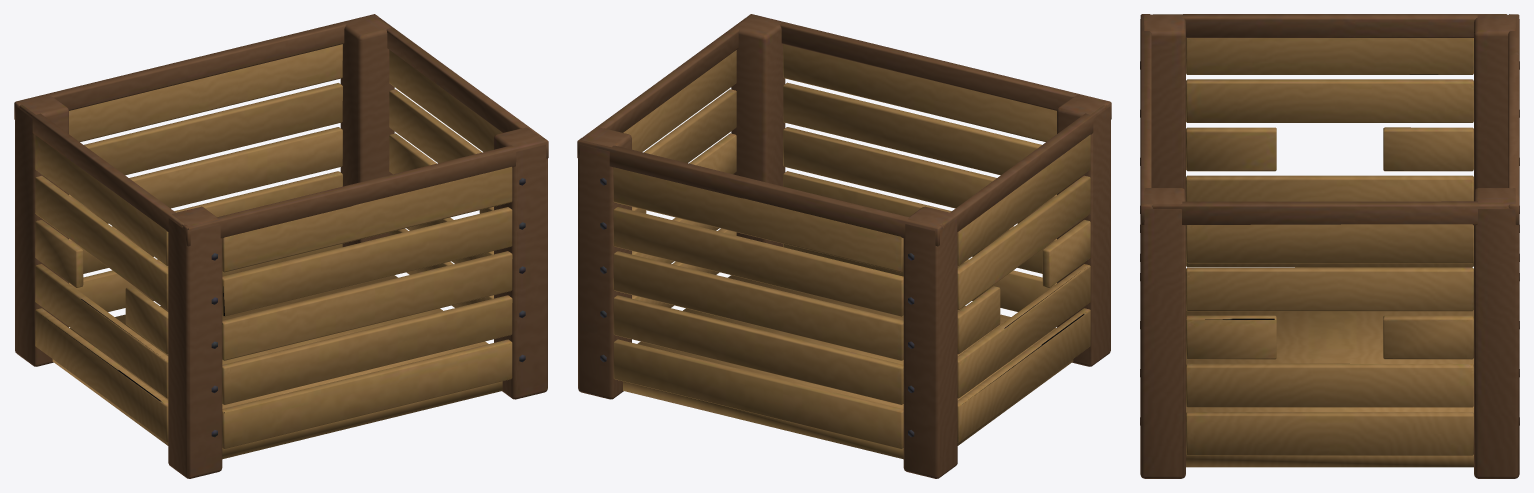
Rendered from trumua-wooden-crate.glb.
3 renders of one model, left to right at view 1: azimuth 30°, elevation 25°; view 2: azimuth 150°, elevation 25°; view 3: azimuth 270°, elevation 25°, orthographic. The views are drawn at different scales.
Visible parts, largest first — view 1: trumua-wooden-crate; view 2: trumua-wooden-crate; view 3: trumua-wooden-crate.
Boxes of the visible parts, x1,y1,x2,y2 form: trumua-wooden-crate: (14, 14, 548, 478); trumua-wooden-crate: (577, 14, 1111, 478); trumua-wooden-crate: (1140, 14, 1519, 478).
Bounding box in the file's own units: 0.6 × 0.4 × 0.501.
1 material, 1 textured.
